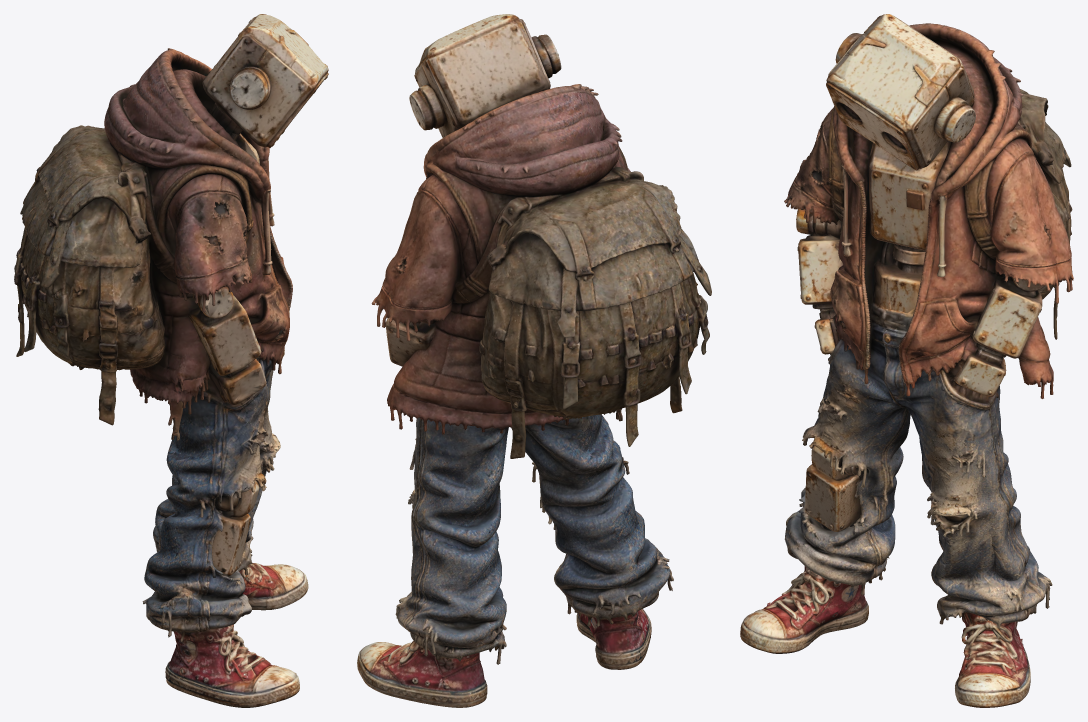
The model's file is post-apocalyptic-robot.glb.
3 views of the same model, side by side, from view 1: azimuth 30°, elevation 25°; view 2: azimuth 150°, elevation 25°; view 3: azimuth 270°, elevation 25° (orthographic). The views are drawn at different scales.
Parts seen in each view (by area): view 1: tripo_node_ed050ae3-341b-4982-906b-a933747f7e8f; view 2: tripo_node_ed050ae3-341b-4982-906b-a933747f7e8f; view 3: tripo_node_ed050ae3-341b-4982-906b-a933747f7e8f.
Boxes of the visible parts, x1,y1,x2,y2 form: tripo_node_ed050ae3-341b-4982-906b-a933747f7e8f: [14, 14, 328, 707]; tripo_node_ed050ae3-341b-4982-906b-a933747f7e8f: [357, 14, 711, 707]; tripo_node_ed050ae3-341b-4982-906b-a933747f7e8f: [740, 14, 1073, 707].
Bounding box in the file's own units: 0.4982 × 0.9789 × 0.4555.
Materials: 1 (1 with a texture image).
